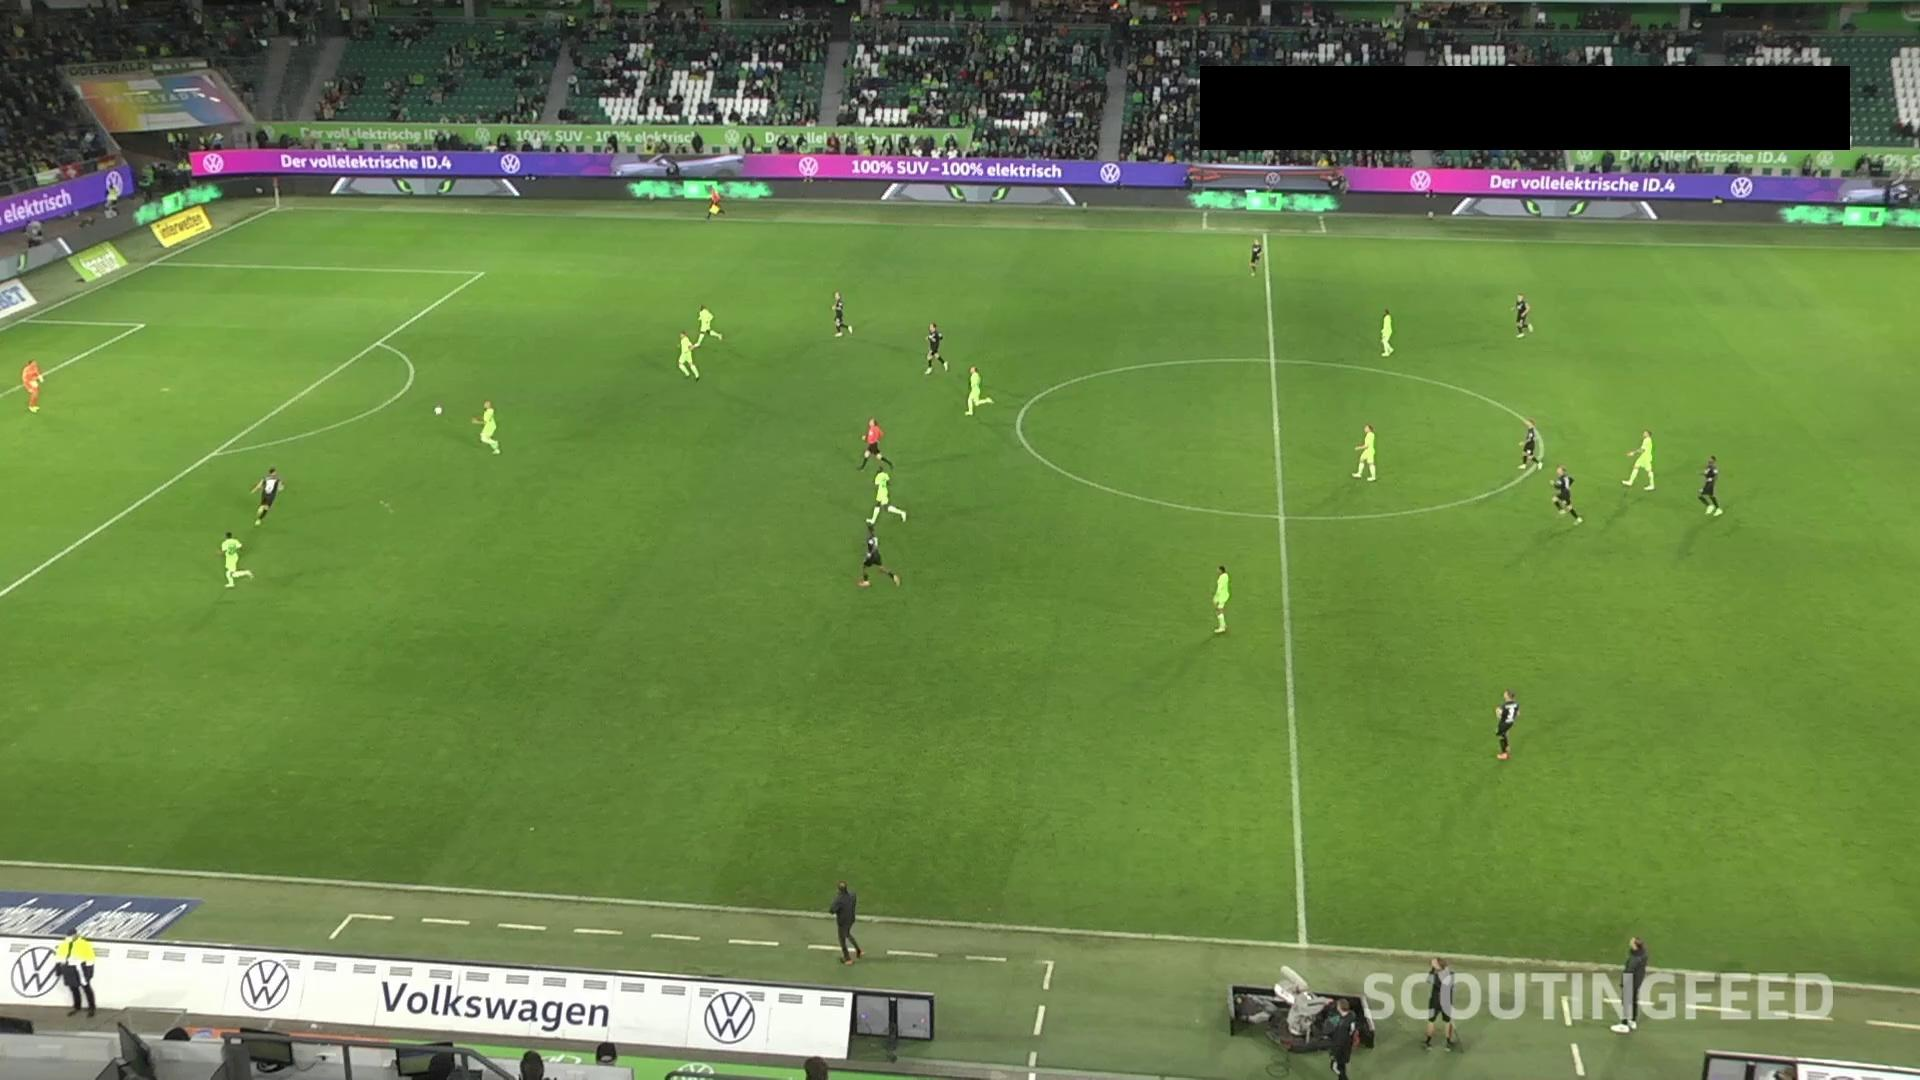Location-of-ball: (423, 396, 455, 427)
